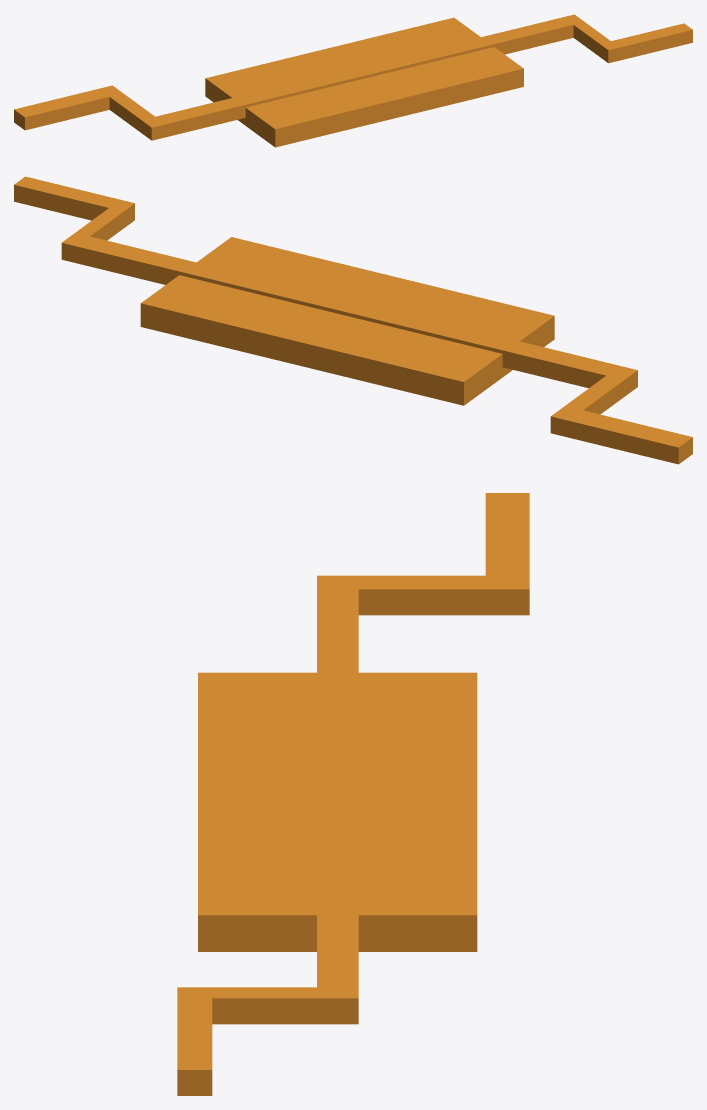
The picture shows the model from 3 angles, top to bottom: view 1: azimuth 30°, elevation 25°; view 2: azimuth 150°, elevation 25°; view 3: azimuth 270°, elevation 25°; orthographic projection. The views are drawn at different scales.
Parts seen in each view (by area): view 1: Cube_004, Cube_005; view 2: Cube_004, Cube_005; view 3: Cube_004, Cube_005.
Part boxes in pixels (bbox=[...]): Cube_004: bbox=[205, 17, 523, 147]; Cube_005: bbox=[14, 14, 692, 140]; Cube_004: bbox=[140, 237, 554, 405]; Cube_005: bbox=[14, 176, 692, 464]; Cube_004: bbox=[198, 672, 477, 951]; Cube_005: bbox=[177, 493, 529, 1095].
Size of the model in its own units: 475 by 16.1 by 123.
